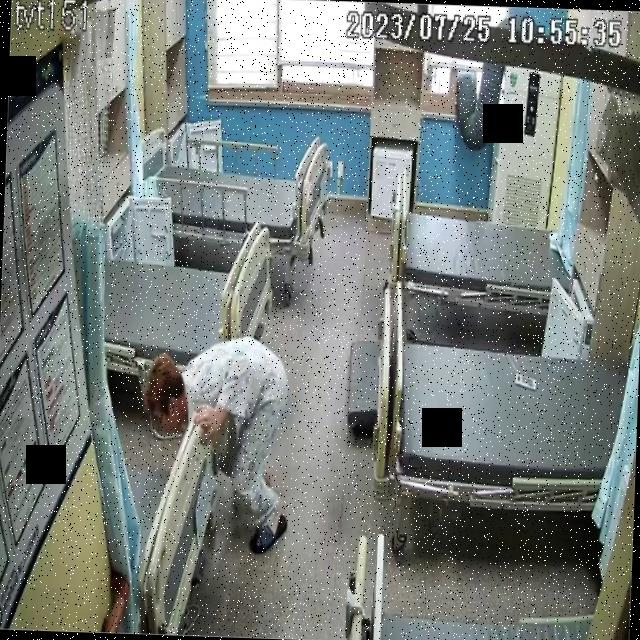bed: (390, 329, 630, 512), (100, 215, 278, 398), (138, 128, 327, 255), (389, 186, 574, 313)
danger: (137, 334, 293, 556)
patient: (138, 332, 294, 556)
